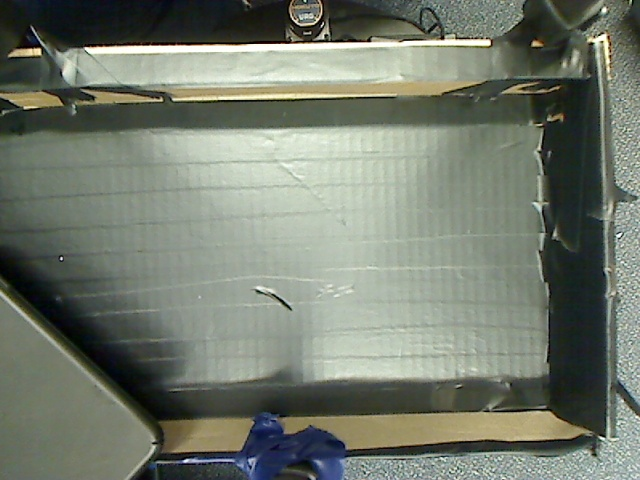phone: (6, 253, 172, 480)
